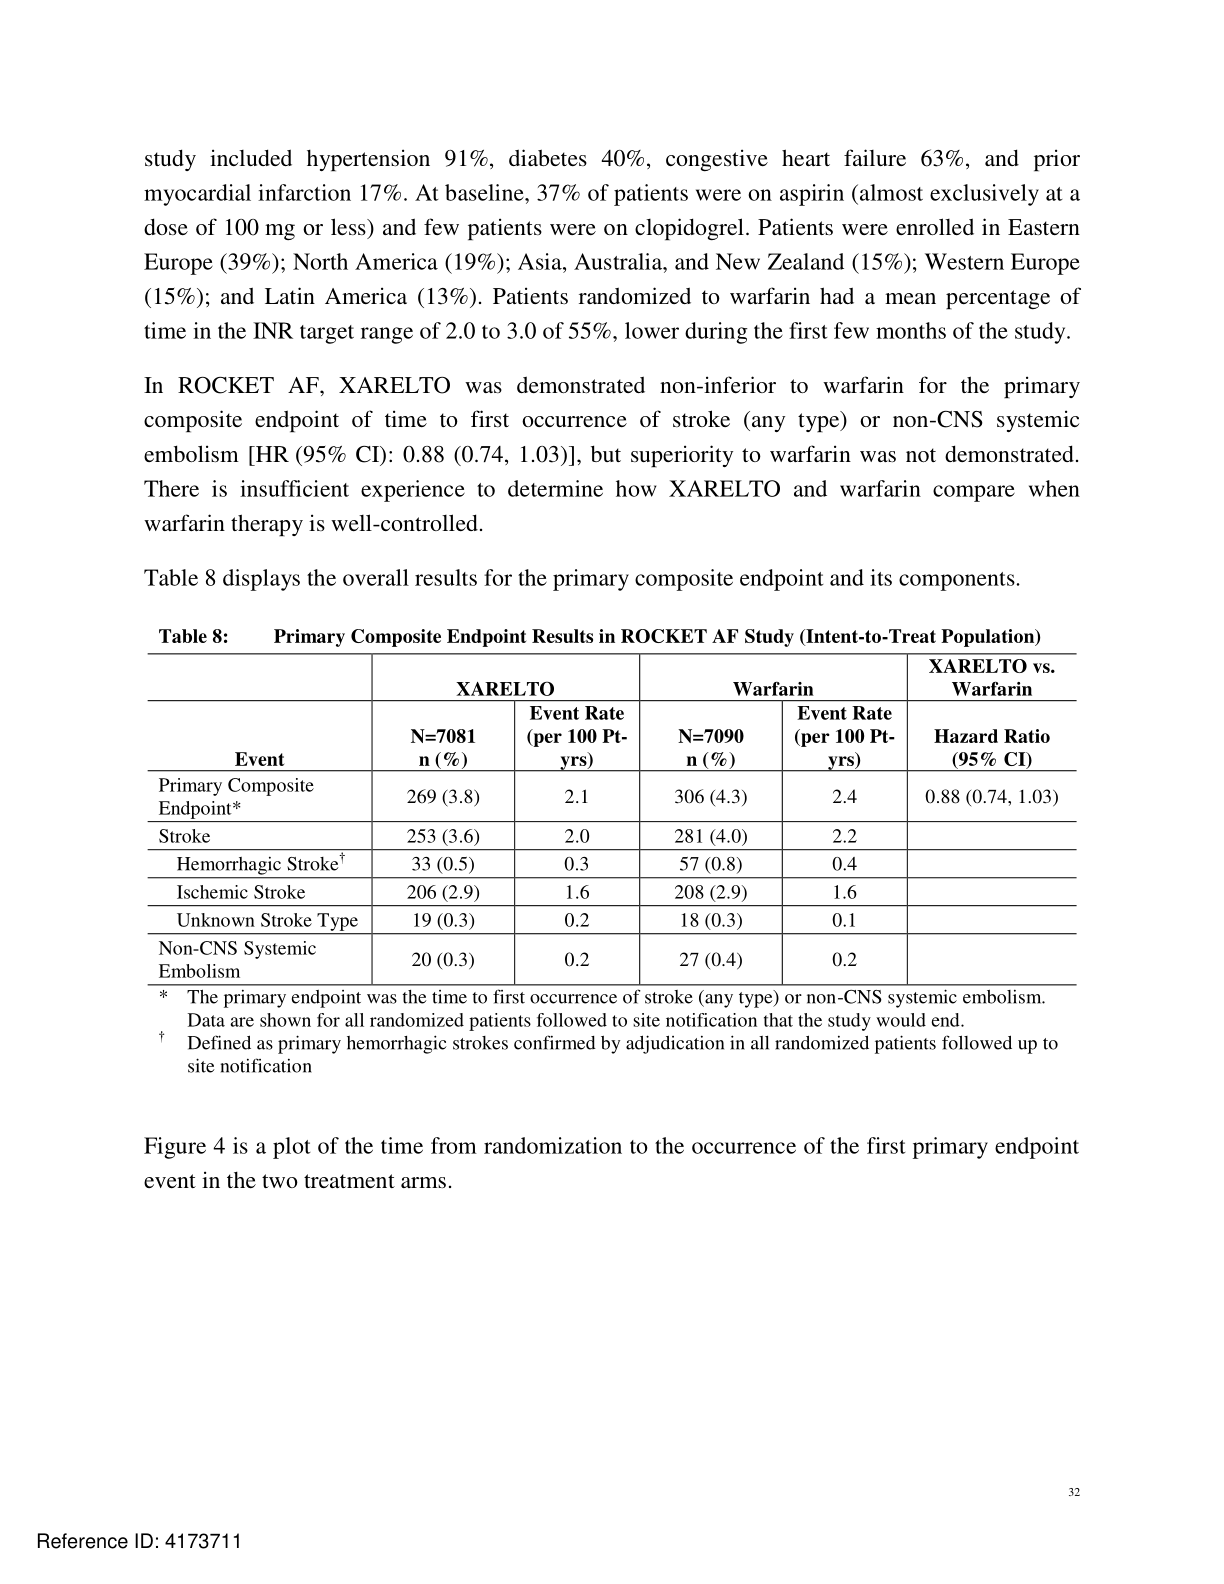partial_lined_merged_cells: (147, 653, 1079, 987)
